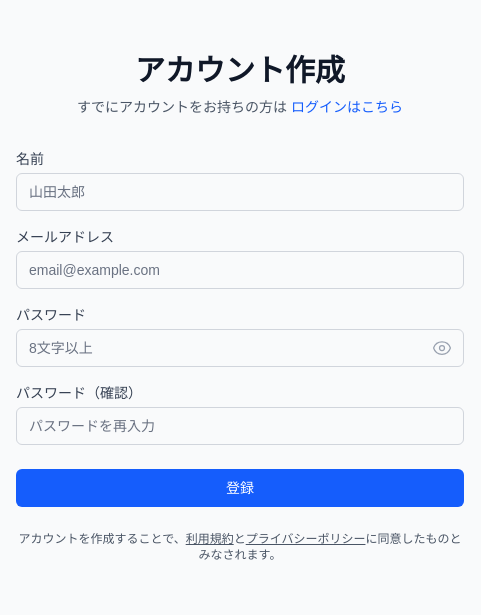
Test case: RegisterPage › should show error message when email already exists
Type "Test User" into the field labelled "名前".
click(240, 192); type("Test User")  # box [16, 173, 464, 211]
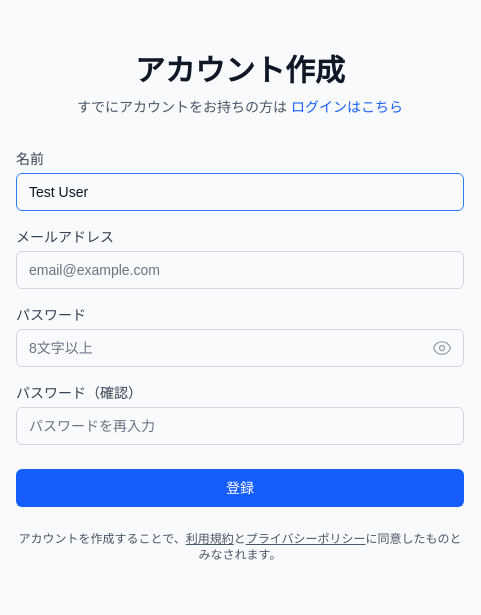
Type "existing@example.com" into the field labelled "メールアドレス".
click(240, 270); type("existing@example.com")  # box [16, 251, 464, 289]
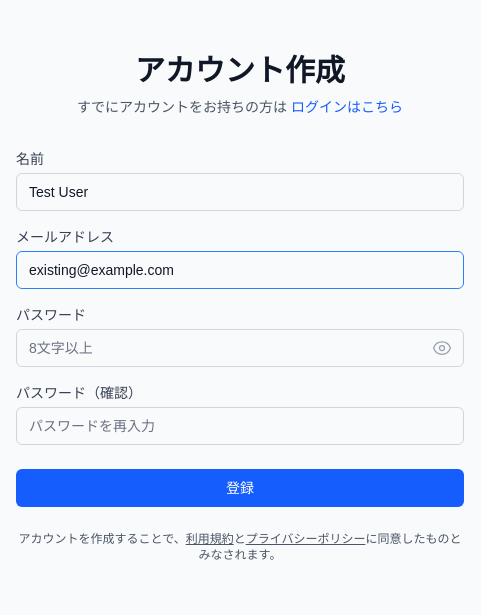
Type "password123" into the password field labelled "パスワード".
click(240, 348); type("password123")  # box [16, 329, 464, 367]
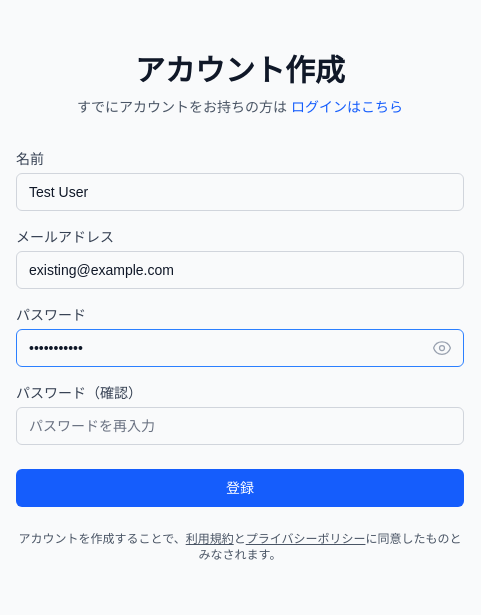
Type "password123" into the password field labelled "パスワード（確認）".
click(240, 426); type("password123")  # box [16, 407, 464, 445]
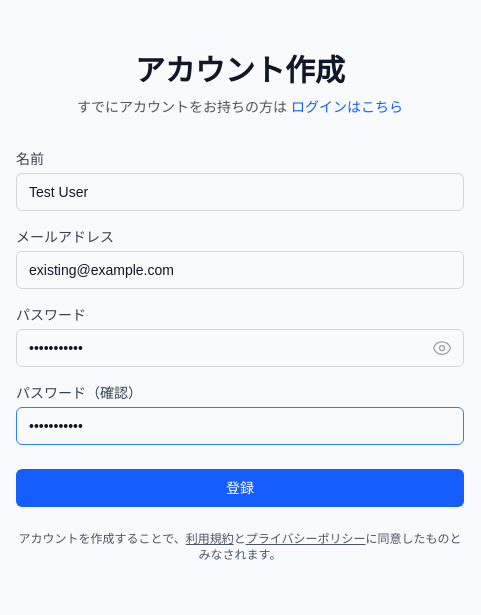
Click the button "登録".
click(240, 488)  # box [16, 469, 464, 507]
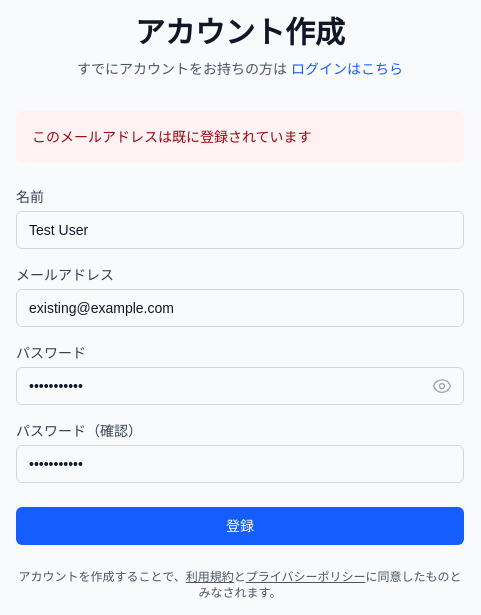
Check: the text "このメールアドレスは既に登録されています" is shown, box [32, 129, 312, 145]
